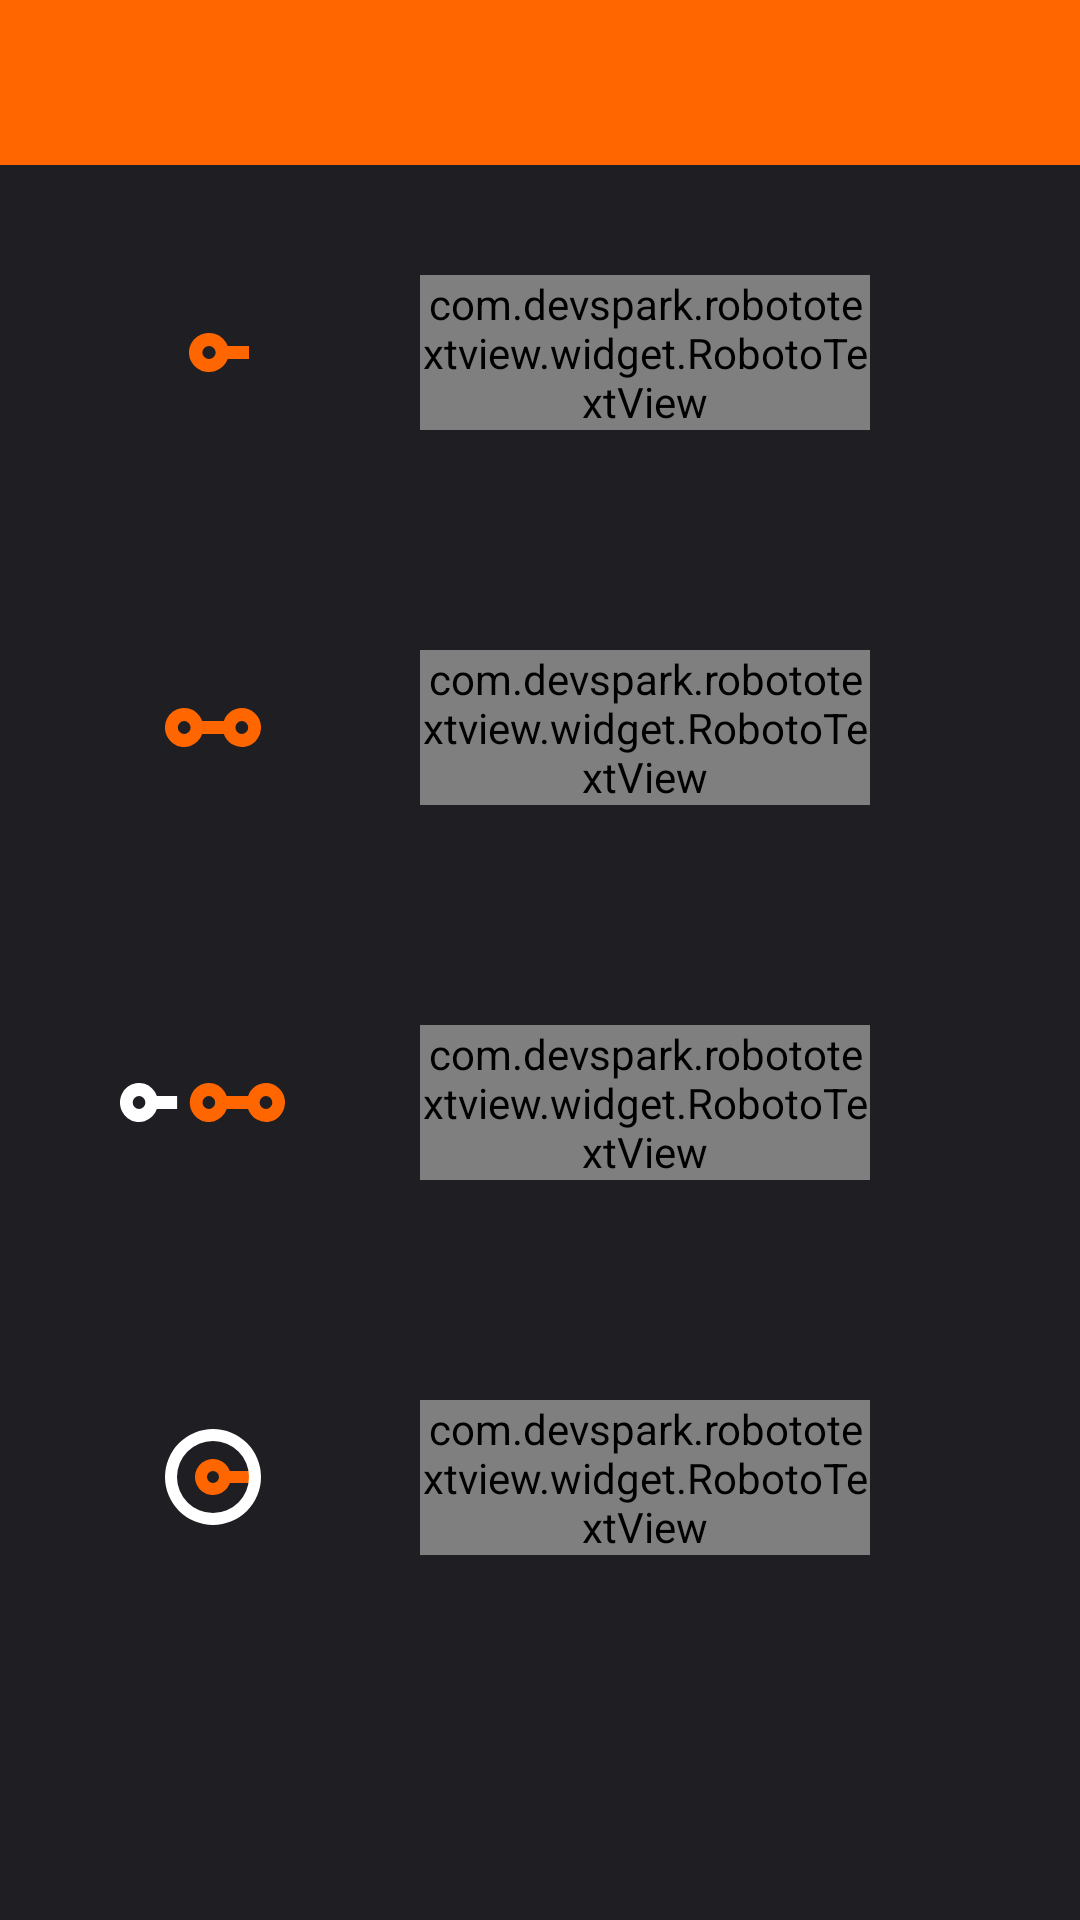

Icons on this 1080 x 1920 Android screen, each with the point to tap as [x,y]:
join multisig wallet: [202,1102]
multisig wallet: [213,727]
personal wallet: [219,352]
wallet restore: [213,1477]
